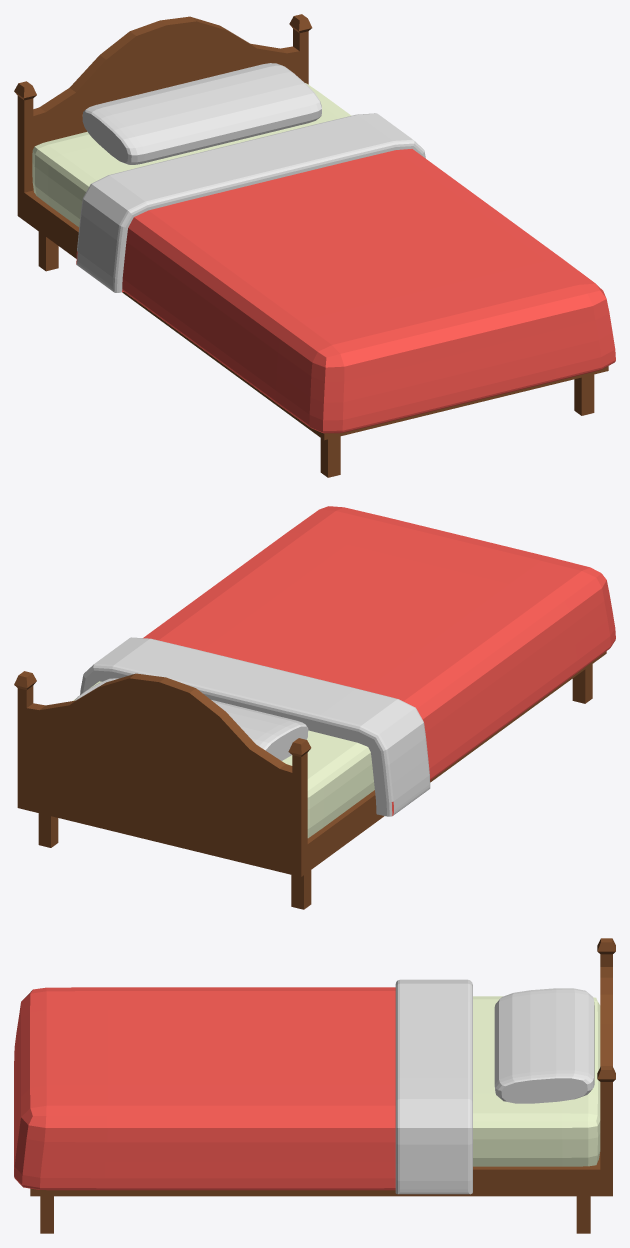
File: Bed.glb
The picture shows the model from 3 angles, top to bottom: view 1: azimuth 30°, elevation 25°; view 2: azimuth 150°, elevation 25°; view 3: azimuth 270°, elevation 25°; orthographic projection. The views are drawn at different scales.
Visible parts, largest first — view 1: Bed; view 2: Bed; view 3: Bed.
Boxes of the visible parts, x1,y1,x2,y2 form: Bed: (14,14,615,477); Bed: (14,506,615,909); Bed: (14,938,615,1233).
Bounding box in the file's own units: 7 × 4.3 × 12.07.
